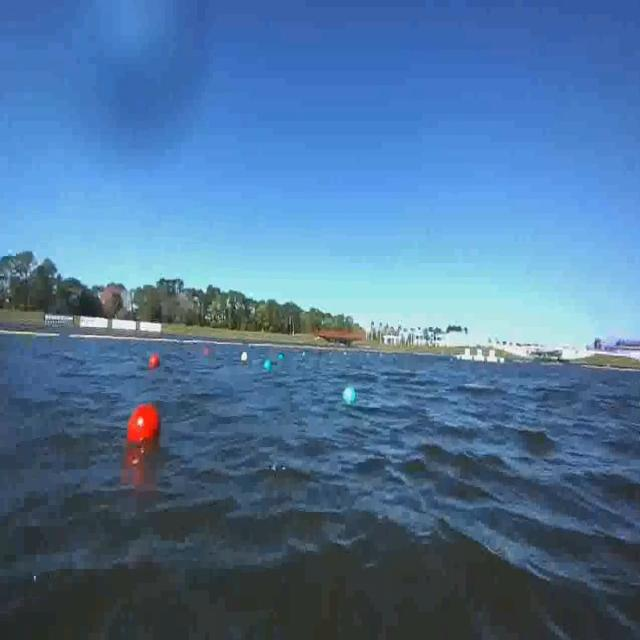green-buoy: (343, 386, 358, 406), (265, 358, 273, 369)
red-buoy: (126, 399, 166, 452), (148, 353, 162, 371)
yellow-buoy: (240, 350, 249, 362)
